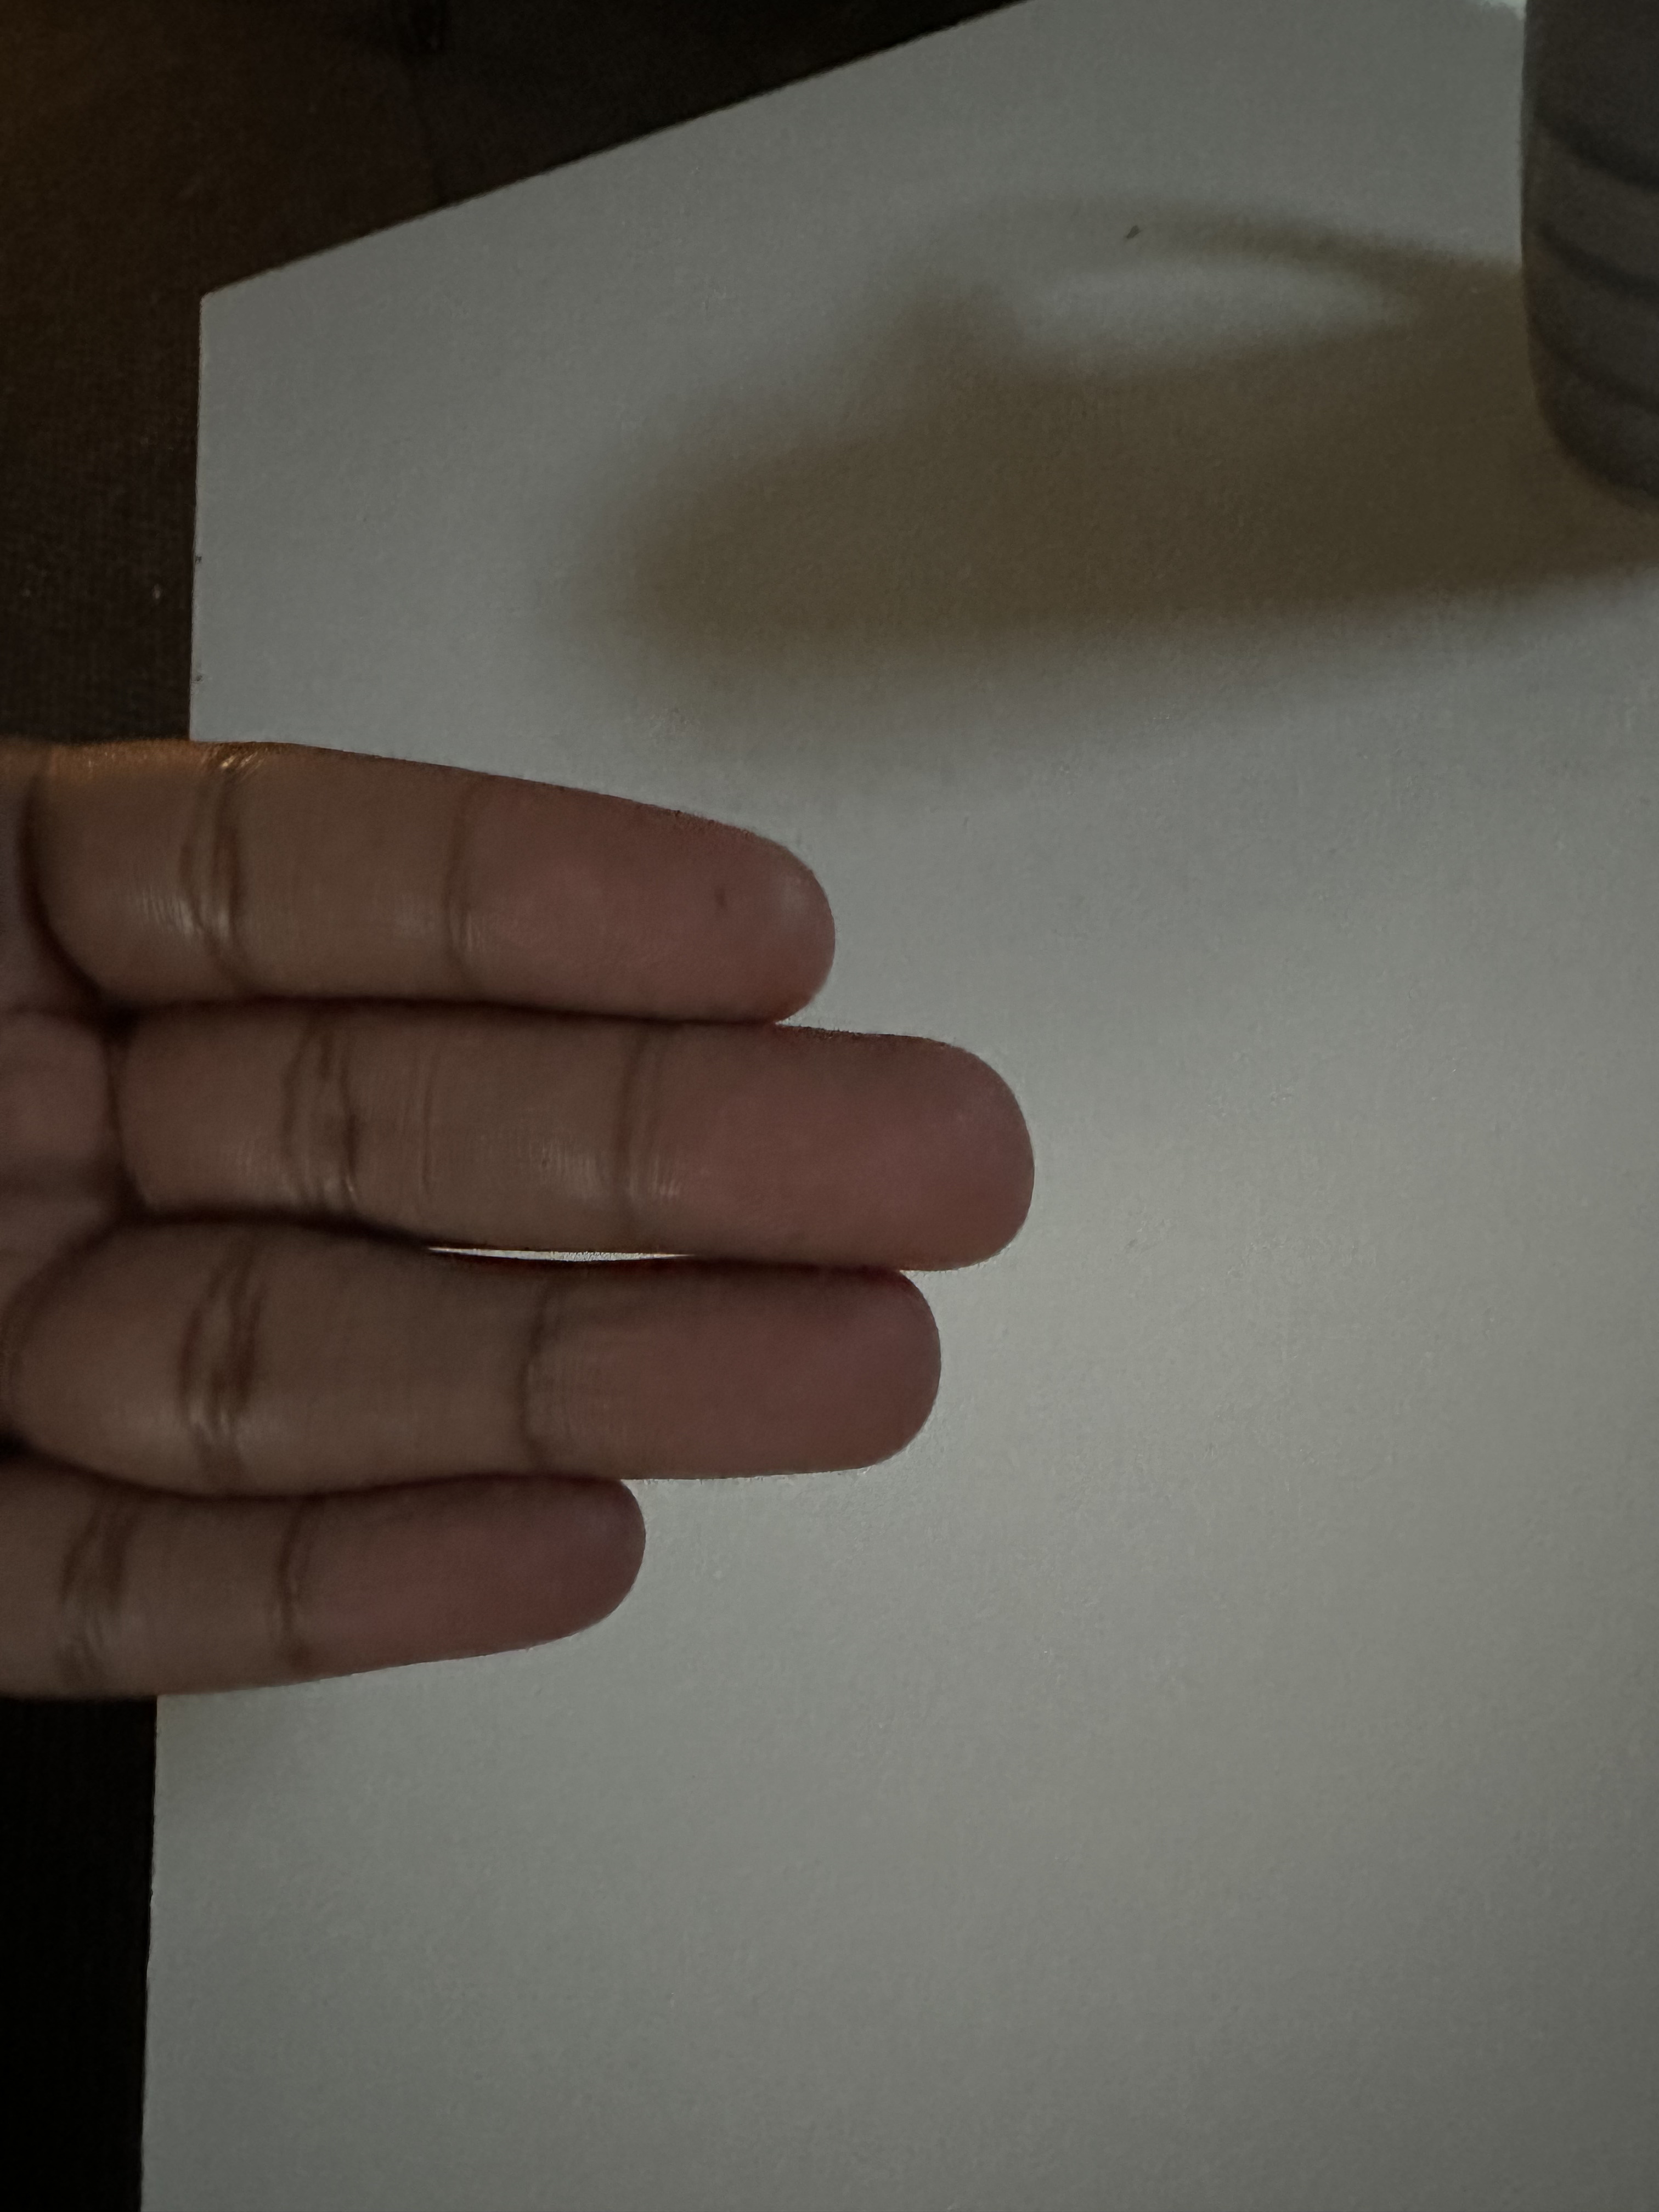finger: (638, 1015, 1060, 1277), (538, 1258, 978, 1487), (460, 786, 864, 1021), (279, 1474, 662, 1674)
